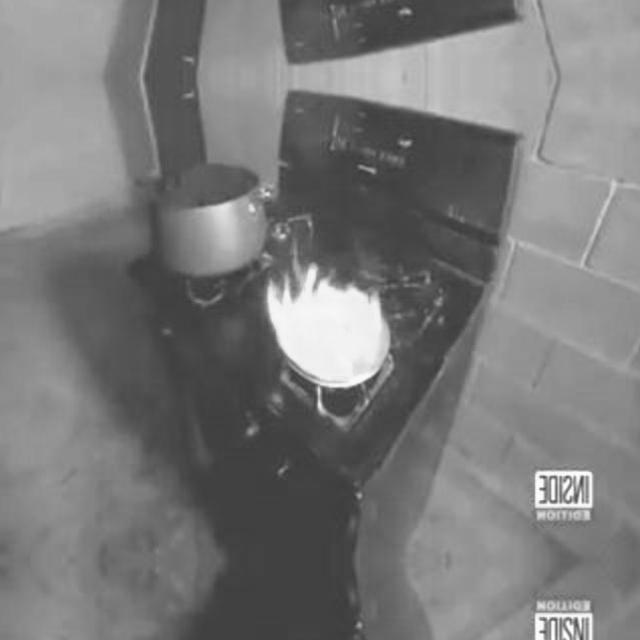smoke: (252, 256, 393, 386)
